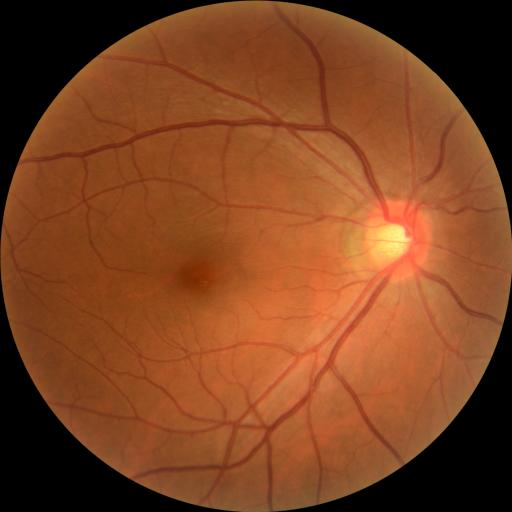Optic Cup: (377, 225, 410, 257)
Optic Disc: (364, 200, 431, 281)
